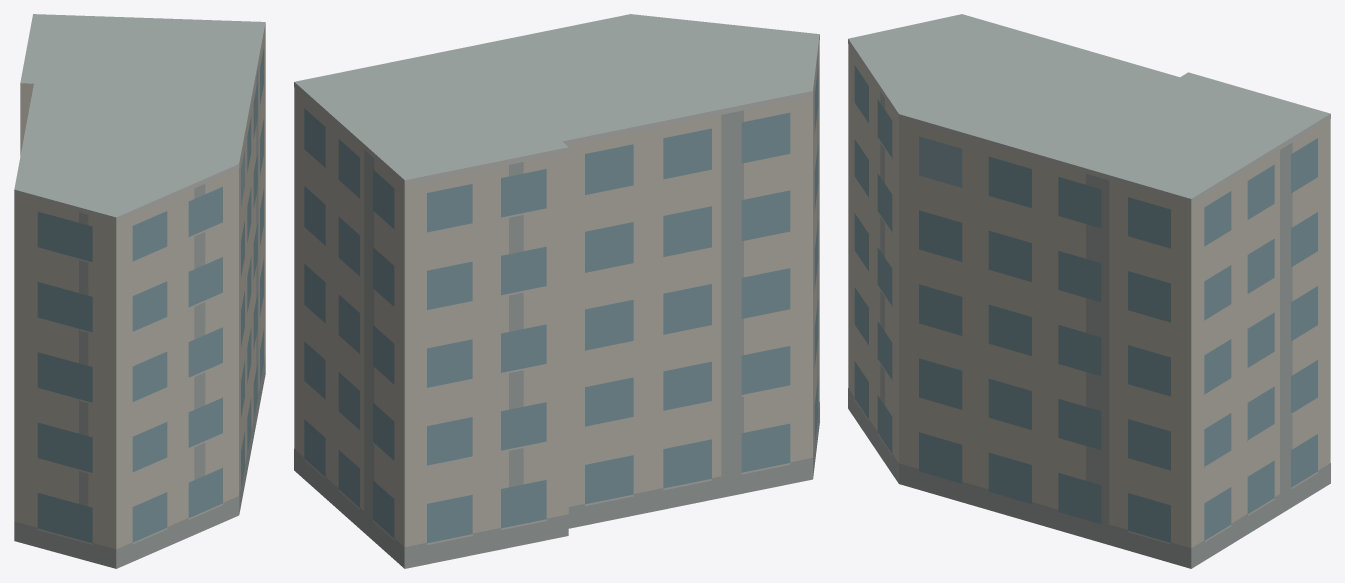
The model's file is survey-upis-32854224.glb.
3 renders of one model, left to right at view 1: azimuth 30°, elevation 25°; view 2: azimuth 150°, elevation 25°; view 3: azimuth 270°, elevation 25°, orthographic. The views are drawn at different scales.
Visible parts, largest first — view 1: survey-upis-32854224.tmp; view 2: survey-upis-32854224.tmp; view 3: survey-upis-32854224.tmp.
Part boxes in pixels (left/top/right/bottom): survey-upis-32854224.tmp: left=14, top=14, right=265, bottom=568; survey-upis-32854224.tmp: left=294, top=14, right=819, bottom=568; survey-upis-32854224.tmp: left=848, top=14, right=1330, bottom=568.
Size of the model in its own units: 18.41 by 17.15 by 20.29.
